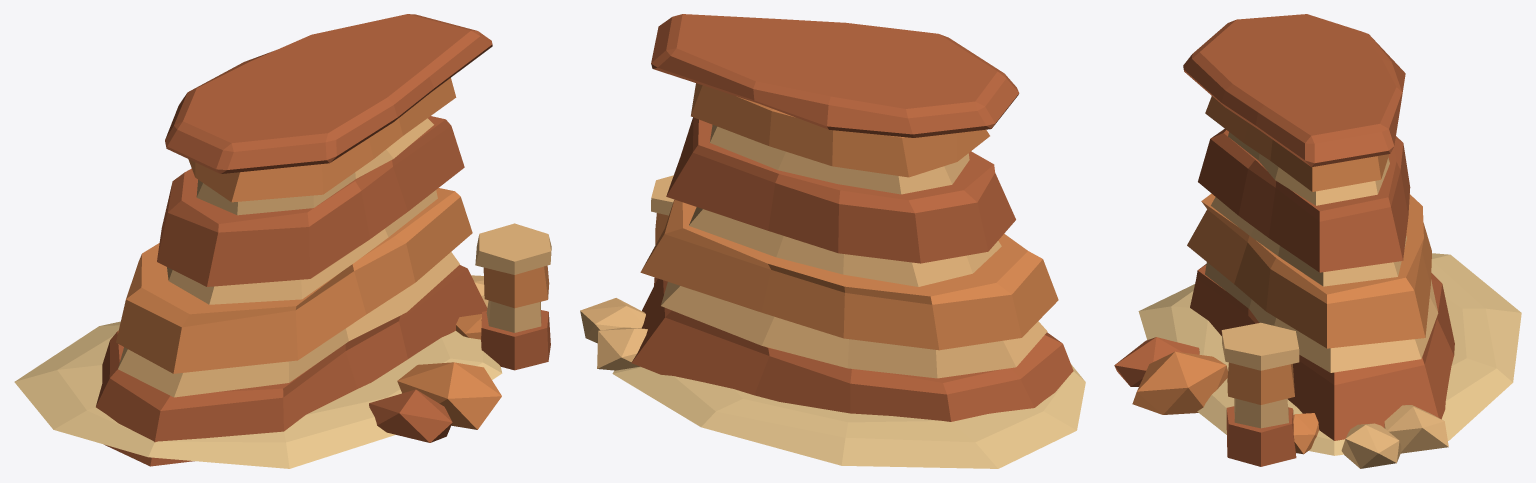
File: sandstone_rock.glb
The picture shows the model from 3 angles, left to right: view 1: azimuth 30°, elevation 25°; view 2: azimuth 150°, elevation 25°; view 3: azimuth 270°, elevation 25°; orthographic projection.
Parts seen in each view (by area): view 1: sandstone_rock; view 2: sandstone_rock; view 3: sandstone_rock.
Boxes of the visible parts, x1,y1,x2,y2 form: sandstone_rock: [14, 14, 551, 468]; sandstone_rock: [580, 14, 1085, 468]; sandstone_rock: [1114, 14, 1521, 468].
Bounding box in the file's own units: 4.41 × 2.85 × 3.33.
